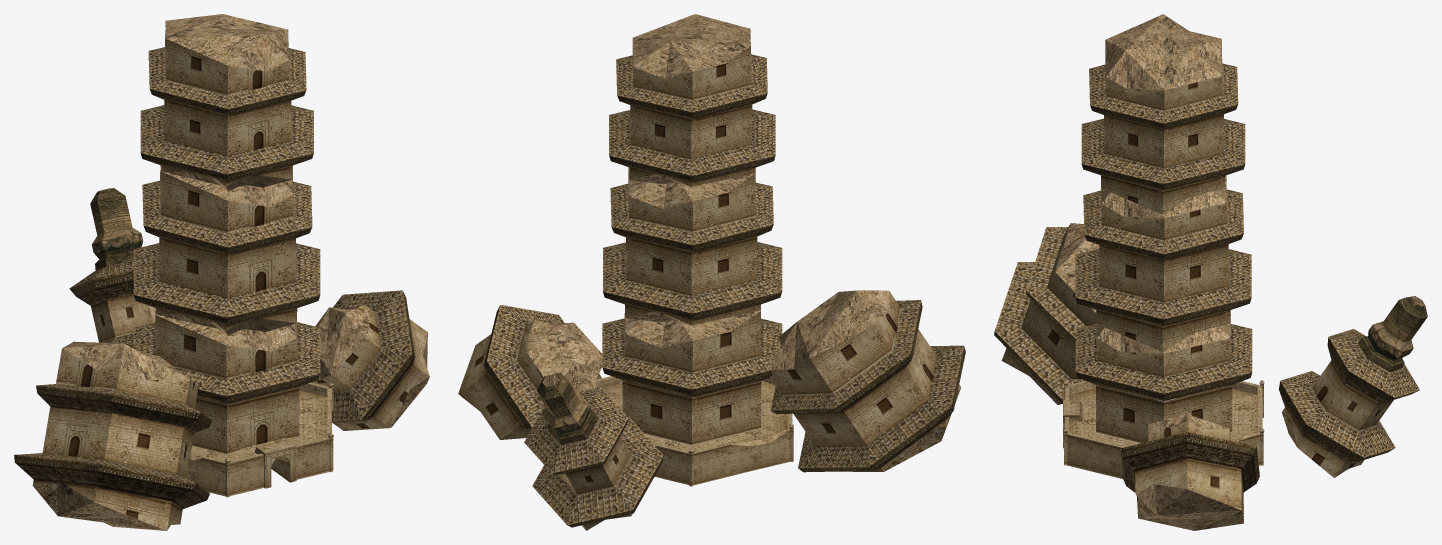
File: w_cd_tower00.glb
3 renders of one model, left to right at view 1: azimuth 30°, elevation 25°; view 2: azimuth 150°, elevation 25°; view 3: azimuth 270°, elevation 25°, orthographic. The views are drawn at different scales.
Visible parts, largest first — view 1: w_cd_tower00, w_cd_tower02, w_cd_tower01; view 2: w_cd_tower00, w_cd_tower02, w_cd_tower01; view 3: w_cd_tower02, w_cd_tower00, w_cd_tower01.
Part boxes in pixels (bbox=[...]): w_cd_tower00: bbox=[32, 30, 429, 530]; w_cd_tower02: bbox=[14, 47, 415, 508]; w_cd_tower01: bbox=[33, 14, 429, 530]; w_cd_tower00: bbox=[458, 46, 960, 530]; w_cd_tower02: bbox=[484, 54, 965, 527]; w_cd_tower01: bbox=[527, 14, 960, 471]; w_cd_tower02: bbox=[994, 63, 1427, 492]; w_cd_tower00: bbox=[1002, 46, 1393, 521]; w_cd_tower01: bbox=[1055, 14, 1296, 530].
Bounding box in the file's own units: 63.7 × 60.19 × 55.61.
Materials: 3 (3 with a texture image).
